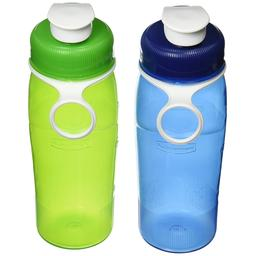plastic: (125, 0, 245, 252), (12, 0, 120, 255)
